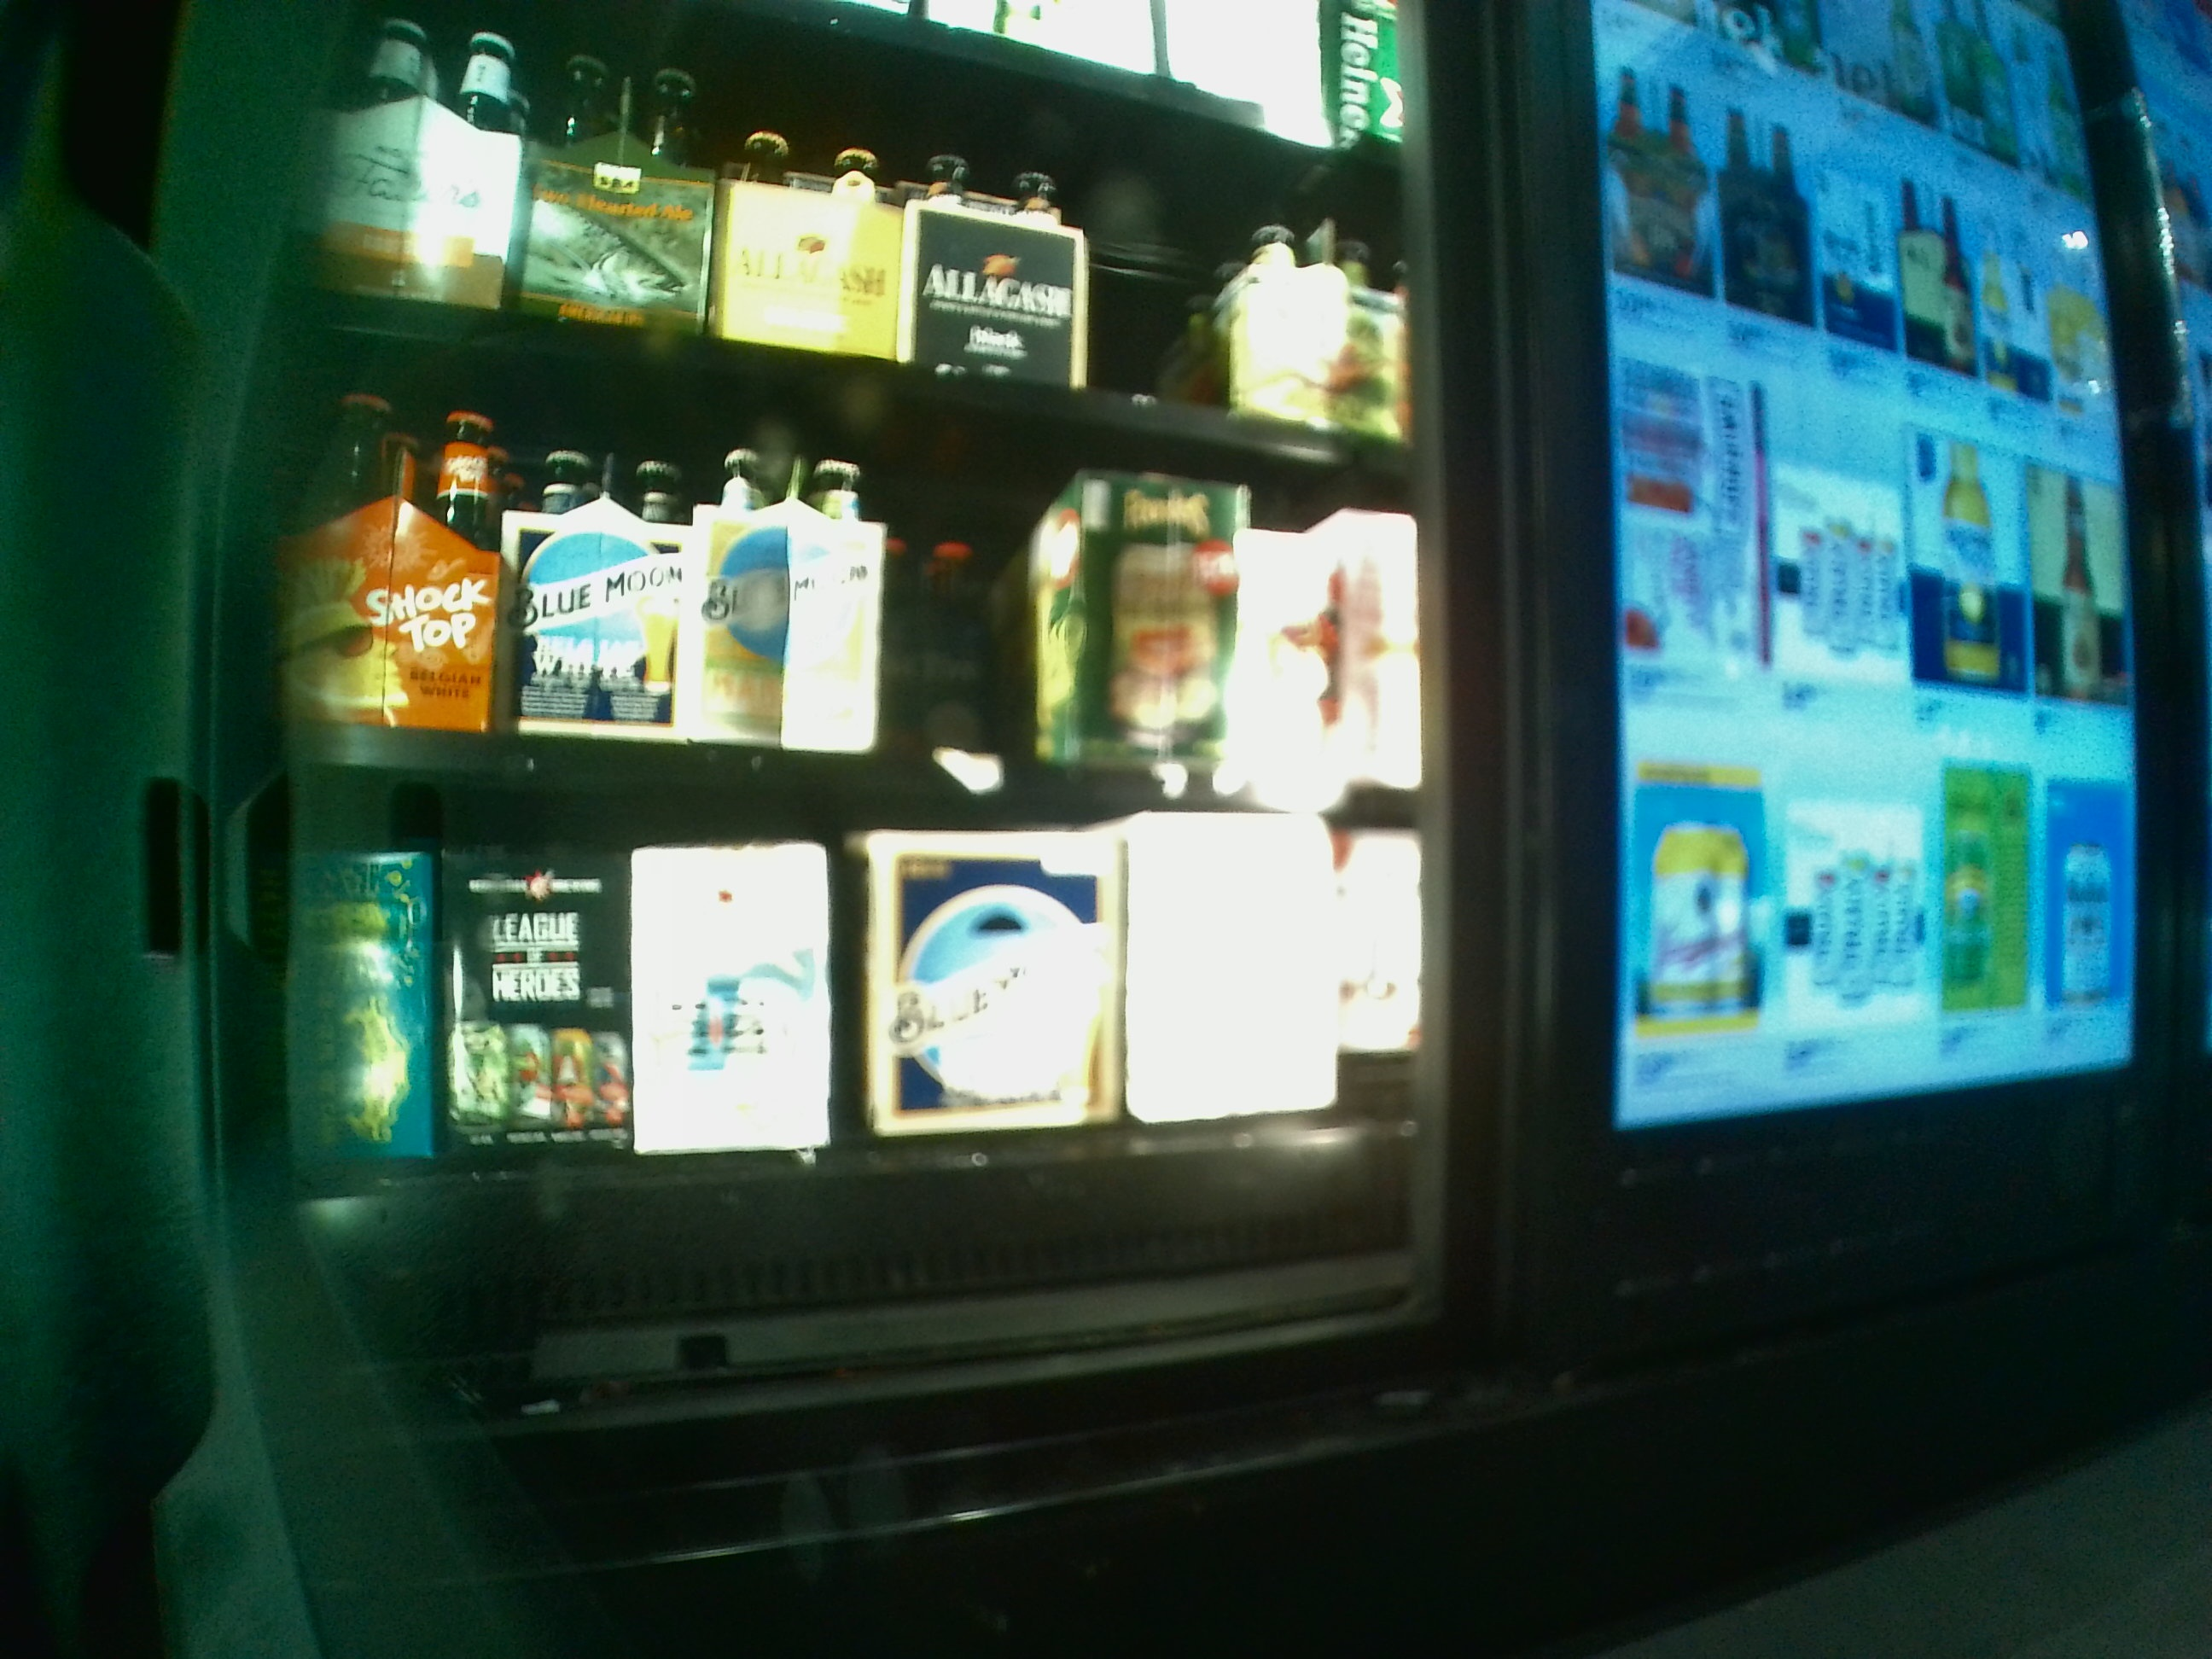shelf: (270, 807, 1420, 1310), (280, 340, 1418, 796)
